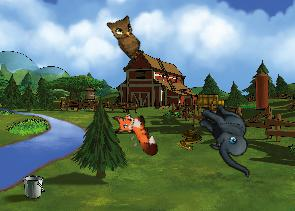elephant: (184, 98, 271, 178)
fox: (108, 104, 161, 165)
owl: (102, 9, 154, 62)
